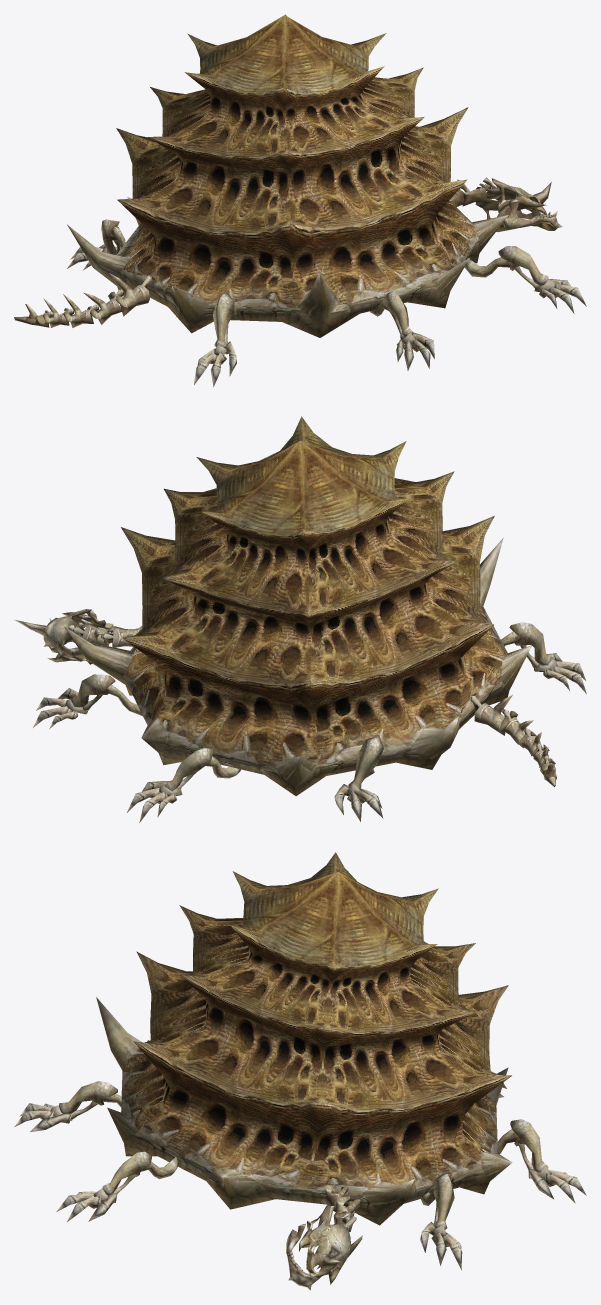
The model's file is w_cd_bigtortoise01.glb.
3 renders of one model, top to bottom at view 1: azimuth 30°, elevation 25°; view 2: azimuth 150°, elevation 25°; view 3: azimuth 270°, elevation 25°, orthographic. The views are drawn at different scales.
Visible parts, largest first — view 1: W_cd_bigtortoise01; view 2: W_cd_bigtortoise01; view 3: W_cd_bigtortoise01.
Part boxes in pixels (x1=…): W_cd_bigtortoise01: x1=14, y1=14, x2=586, y2=386; W_cd_bigtortoise01: x1=14, y1=416, x2=586, y2=822; W_cd_bigtortoise01: x1=14, y1=852, x2=586, y2=1290.
Size of the model in its own units: 67.18 by 34.92 by 59.34.
1 material, 1 textured.
